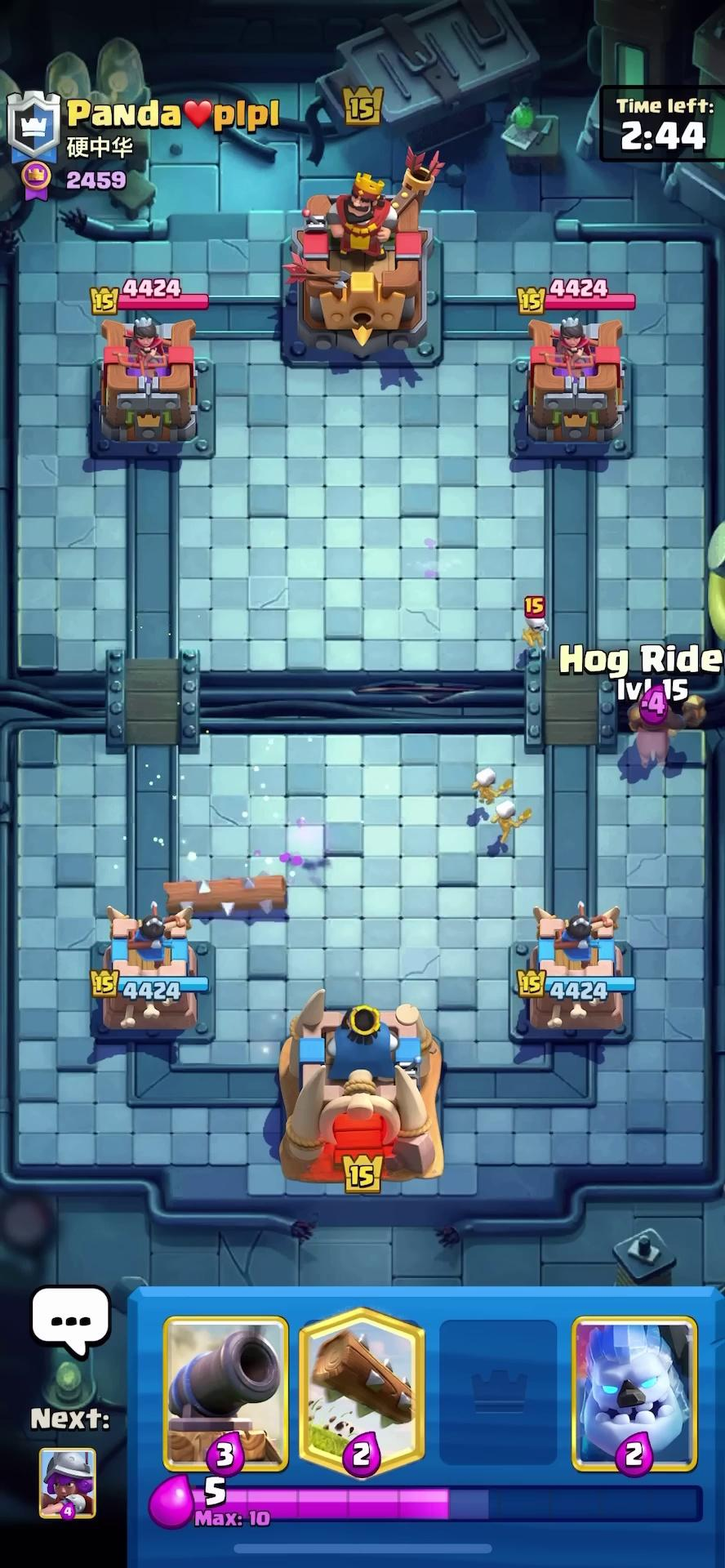log: (151, 868, 314, 923)
skeletons: (467, 766, 531, 853)
